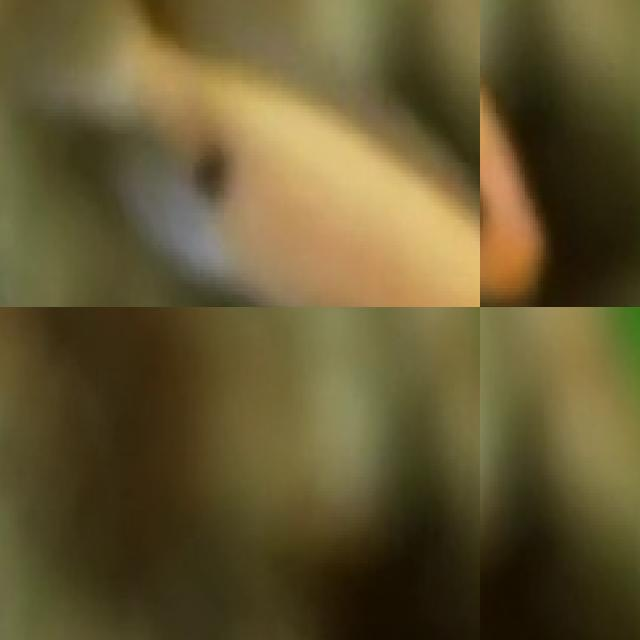fish: (0, 0, 480, 307), (480, 0, 554, 307)
